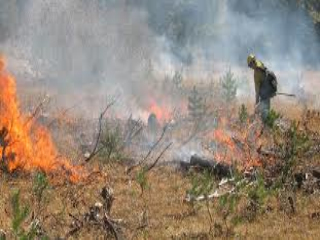fire: (1, 57, 85, 178), (214, 129, 261, 171), (145, 104, 179, 120)
smoke: (127, 6, 304, 88)
